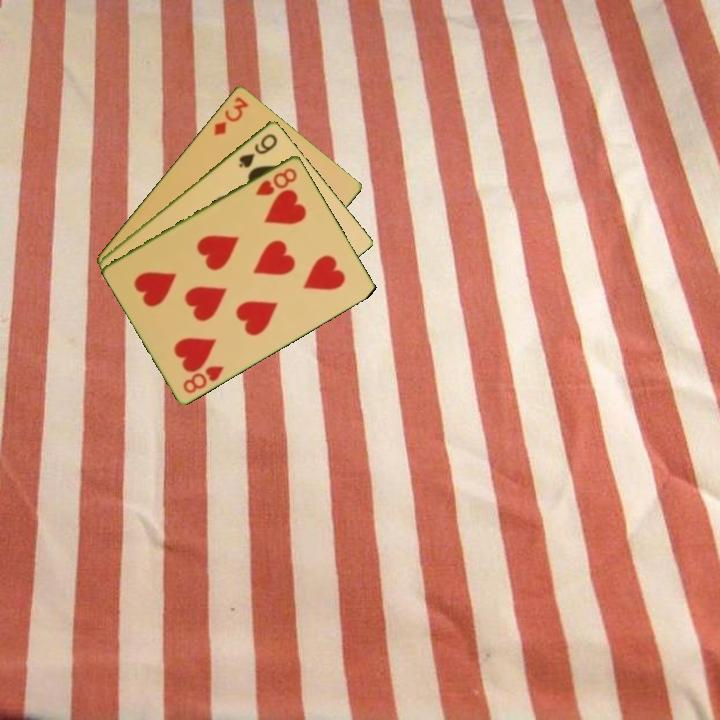3d: (210, 92, 251, 138)
8h: (252, 164, 300, 198), (179, 362, 227, 396)
9s: (235, 130, 281, 171)
